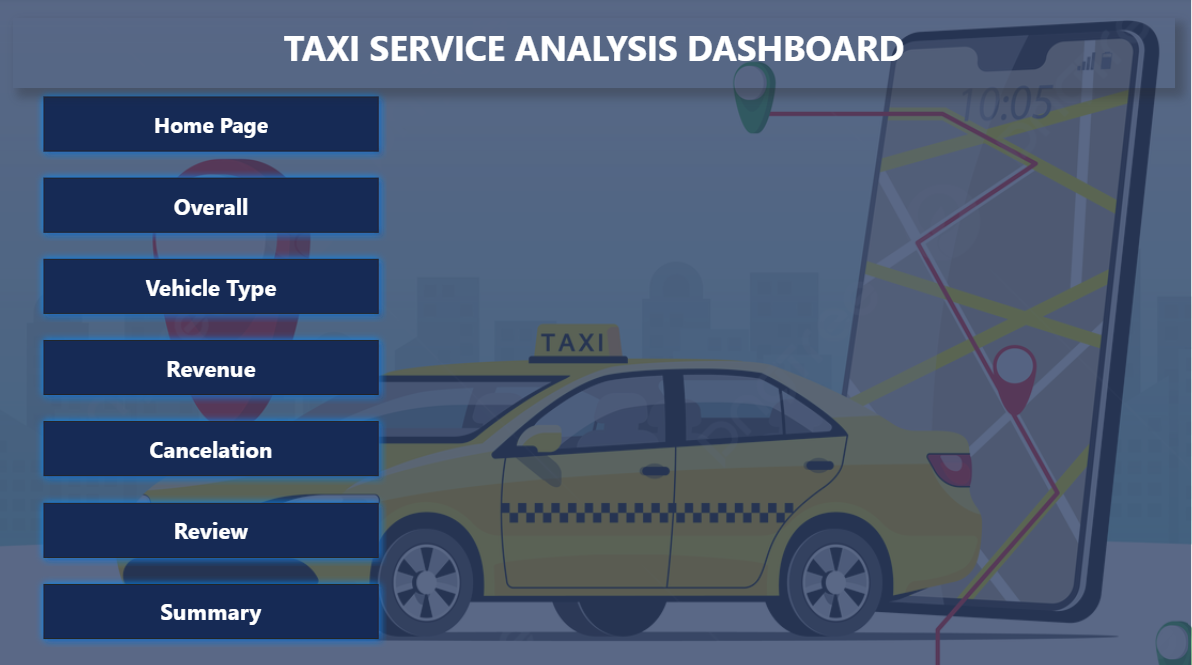

Layout of this report page (visuals, bound fields, positions):
{"tool":"powerbi","page":{"name":"Home Page","canvas":[1280,720],"ordinal":0},"visuals":[{"type":"pageNavigator","box":[40.8,98.6,377.5,603.7],"z":0},{"type":"textbox","box":[17,23.8,1244.8,74.8],"z":1000}]}

Visuals, with their boxes in screenshot pixels (x1, y1, x2, y2), scaled from the page's 1280x720 canvas onto the 1192x665 screenshot:
pageNavigator: {"left": 38, "top": 91, "right": 390, "bottom": 649}
textbox: {"left": 16, "top": 22, "right": 1175, "bottom": 91}
